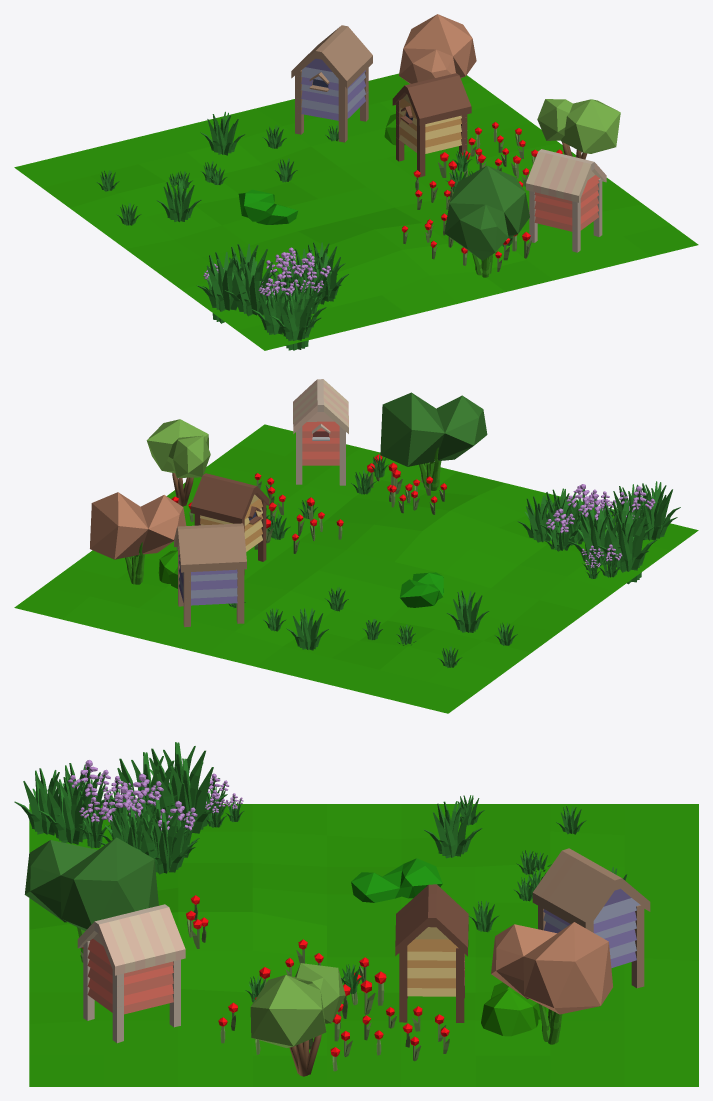
The model's file is MEADOW_FIELD11.fbx.
The picture shows the model from 3 angles, top to bottom: view 1: azimuth 30°, elevation 25°; view 2: azimuth 150°, elevation 25°; view 3: azimuth 270°, elevation 25°; orthographic projection. The views are drawn at different scales.
Visible parts, largest first — view 1: Grid.126; view 2: Grid.126; view 3: Grid.126.
Boxes of the visible parts, box(x1,y1,x2,y2) form: Grid.126: box(14, 14, 698, 350); Grid.126: box(14, 379, 698, 713); Grid.126: box(14, 742, 698, 1086).
Bounding box in the file's own units: 1053 × 263 × 1023.
